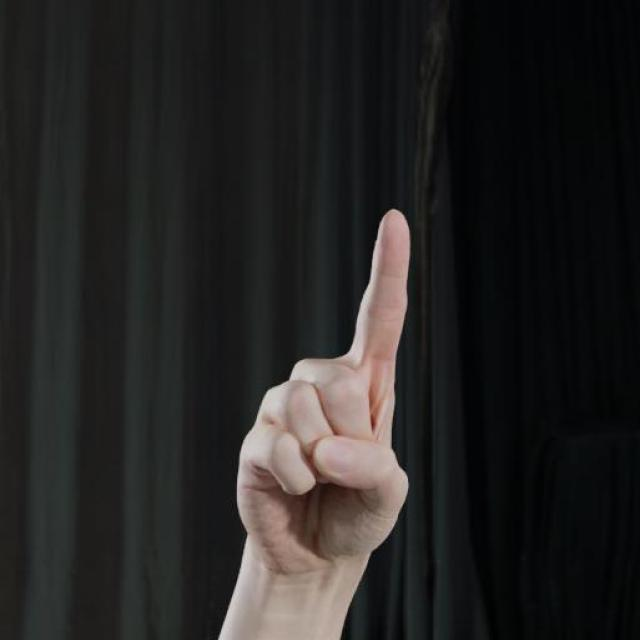Z: (229, 183, 420, 608)
